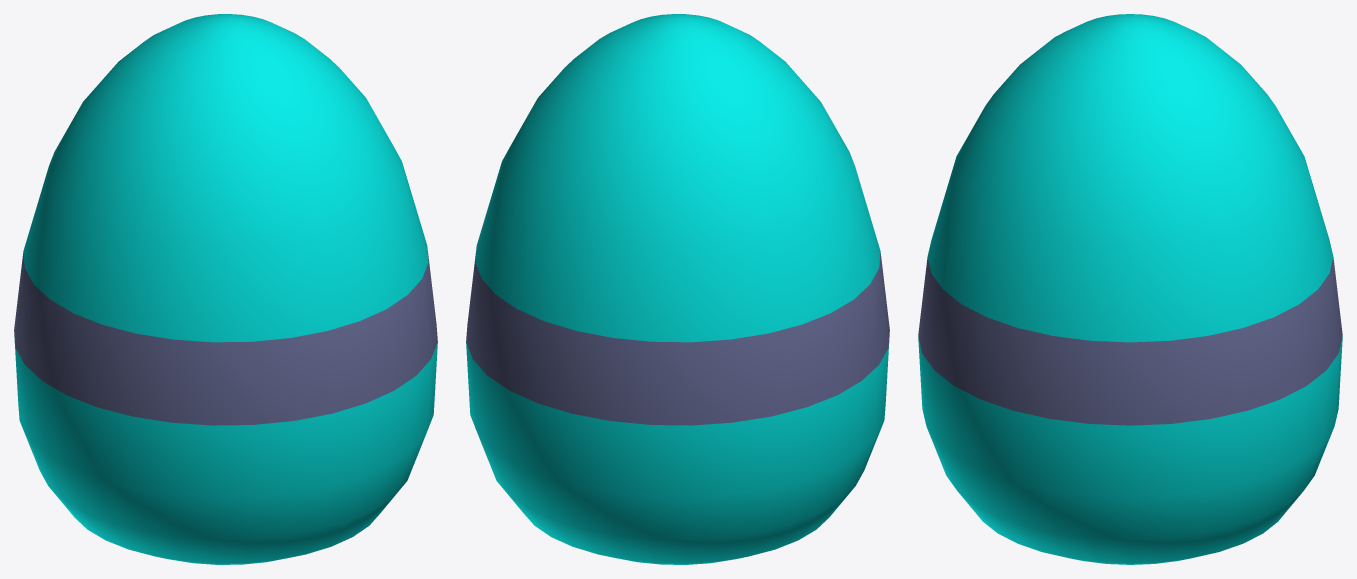
Rendered from Ice_01.fbx.
3 views of the same model, side by side, from view 1: azimuth 30°, elevation 25°; view 2: azimuth 150°, elevation 25°; view 3: azimuth 270°, elevation 25° (orthographic).
Parts seen in each view (by area): view 1: Ice_01; view 2: Ice_01; view 3: Ice_01.
Part boxes in pixels (x1,y1,x2,y2): Ice_01: [14, 14, 437, 564]; Ice_01: [466, 14, 889, 564]; Ice_01: [918, 14, 1342, 564].
Size of the model in its own units: 315 by 417 by 315.
